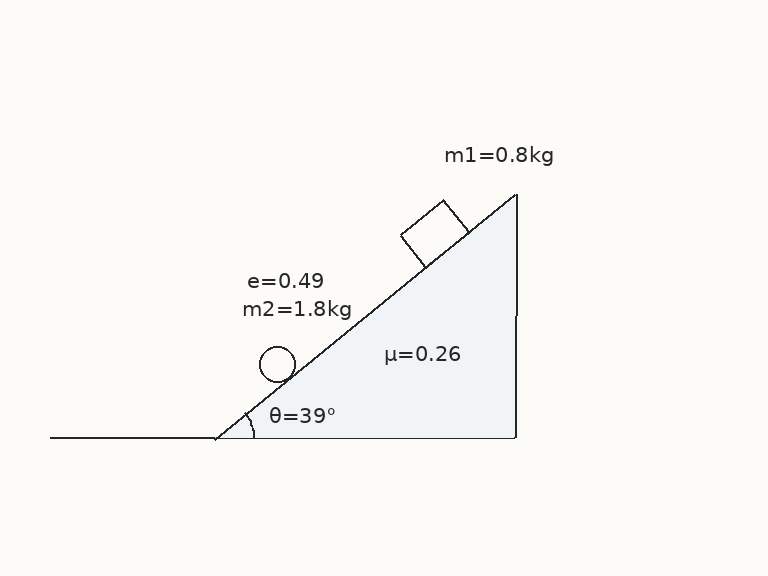ball: (257, 344, 297, 384)
block: (398, 198, 471, 269)
ramp: (212, 192, 517, 440)
